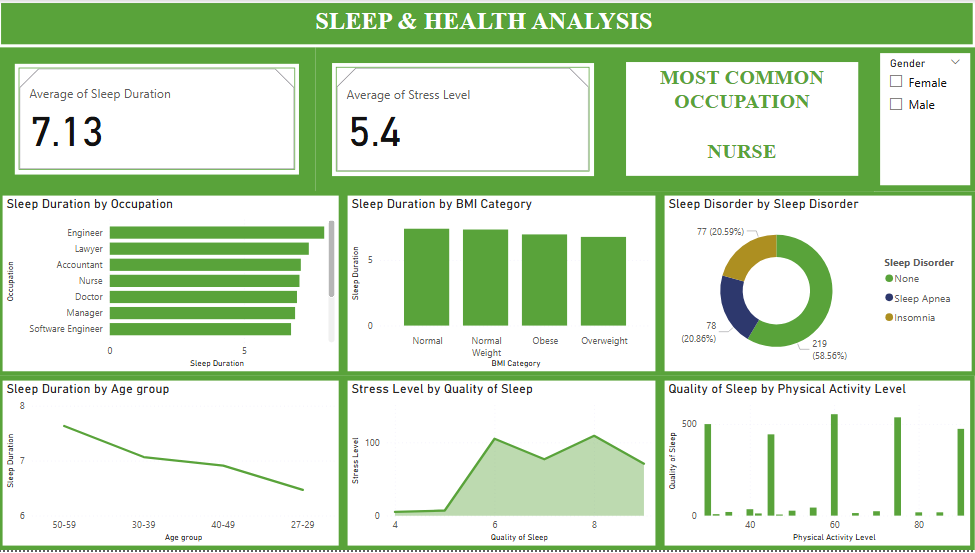

The dashboard page shown, as its layout file describes it:
{"tool":"powerbi","page":{"name":"Page 1","canvas":[1280,720],"ordinal":0},"visuals":[{"type":"cardVisual","fields":{"Data":["Avg(sleep editted file.Sleep Duration)"]},"box":[0,61.5,416.3,188.5],"z":0},{"type":"cardVisual","fields":{"Data":["Avg(sleep editted file.Stress Level)"]},"box":[416.3,61.5,384.9,189.8],"z":1000},{"type":"clusteredBarChart","fields":{"Category":["sleep editted file.Occupation"],"Y":["Avg(sleep editted file.Sleep Duration)"]},"box":[0,250,451.6,242.2],"z":2000},{"type":"donutChart","fields":{"Category":["sleep editted file.Sleep Disorder"],"Y":["CountNonNull(sleep editted file.Sleep Disorder)"]},"box":[866.6,250,413.7,242.2],"z":3000},{"type":"areaChart","fields":{"Y":["CountNonNull(sleep editted file.Stress Level)"],"Category":["sleep editted file.Quality of Sleep"]},"box":[451.6,492.2,415,227.8],"z":4000},{"type":"lineChart","fields":{"Category":["sleep editted file.Age group"],"Y":["Avg(sleep editted file.Sleep Duration)"]},"box":[0,492.2,451.6,227.8],"z":5000},{"type":"clusteredColumnChart","fields":{"Category":["sleep editted file.BMI Category"],"Y":["Avg(sleep editted file.Sleep Duration)"]},"box":[451.6,250,415,242.2],"z":6000},{"type":"lineStackedColumnComboChart","fields":{"Category":["sleep editted file.Physical Activity Level"],"Y":["Sum(sleep editted file.Quality of Sleep)"]},"box":[866.6,492.2,412.4,227.8],"z":7000},{"type":"textbox","box":[801.2,60.2,345.6,191.1],"z":8000},{"type":"slicer","fields":{"Values":["sleep editted file.Gender"]},"box":[1146.8,61.5,133.5,188.5],"z":9000},{"type":"textbox","box":[0,0,1280.3,61.5],"z":9001}]}

Visuals, with their boxes in screenshot pixels (x1, y1, x2, y2), scaled from the page's 1280x720 canvas onto the 975x553 screenshot:
cardVisual - Avg(sleep editted file.Sleep Duration): rect(0, 47, 317, 192)
cardVisual - Avg(sleep editted file.Stress Level): rect(317, 47, 610, 193)
clusteredBarChart - sleep editted file.Occupation x Avg(sleep editted file.Sleep Duration): rect(0, 192, 344, 378)
donutChart - sleep editted file.Sleep Disorder x CountNonNull(sleep editted file.Sleep Disorder): rect(660, 192, 974, 378)
areaChart - CountNonNull(sleep editted file.Stress Level) x sleep editted file.Quality of Sleep: rect(344, 378, 660, 552)
lineChart - sleep editted file.Age group x Avg(sleep editted file.Sleep Duration): rect(0, 378, 344, 552)
clusteredColumnChart - sleep editted file.BMI Category x Avg(sleep editted file.Sleep Duration): rect(344, 192, 660, 378)
lineStackedColumnComboChart - sleep editted file.Physical Activity Level x Sum(sleep editted file.Quality of Sleep): rect(660, 378, 974, 552)
textbox: rect(610, 46, 874, 193)
slicer - sleep editted file.Gender: rect(874, 47, 974, 192)
textbox: rect(0, 0, 974, 47)
